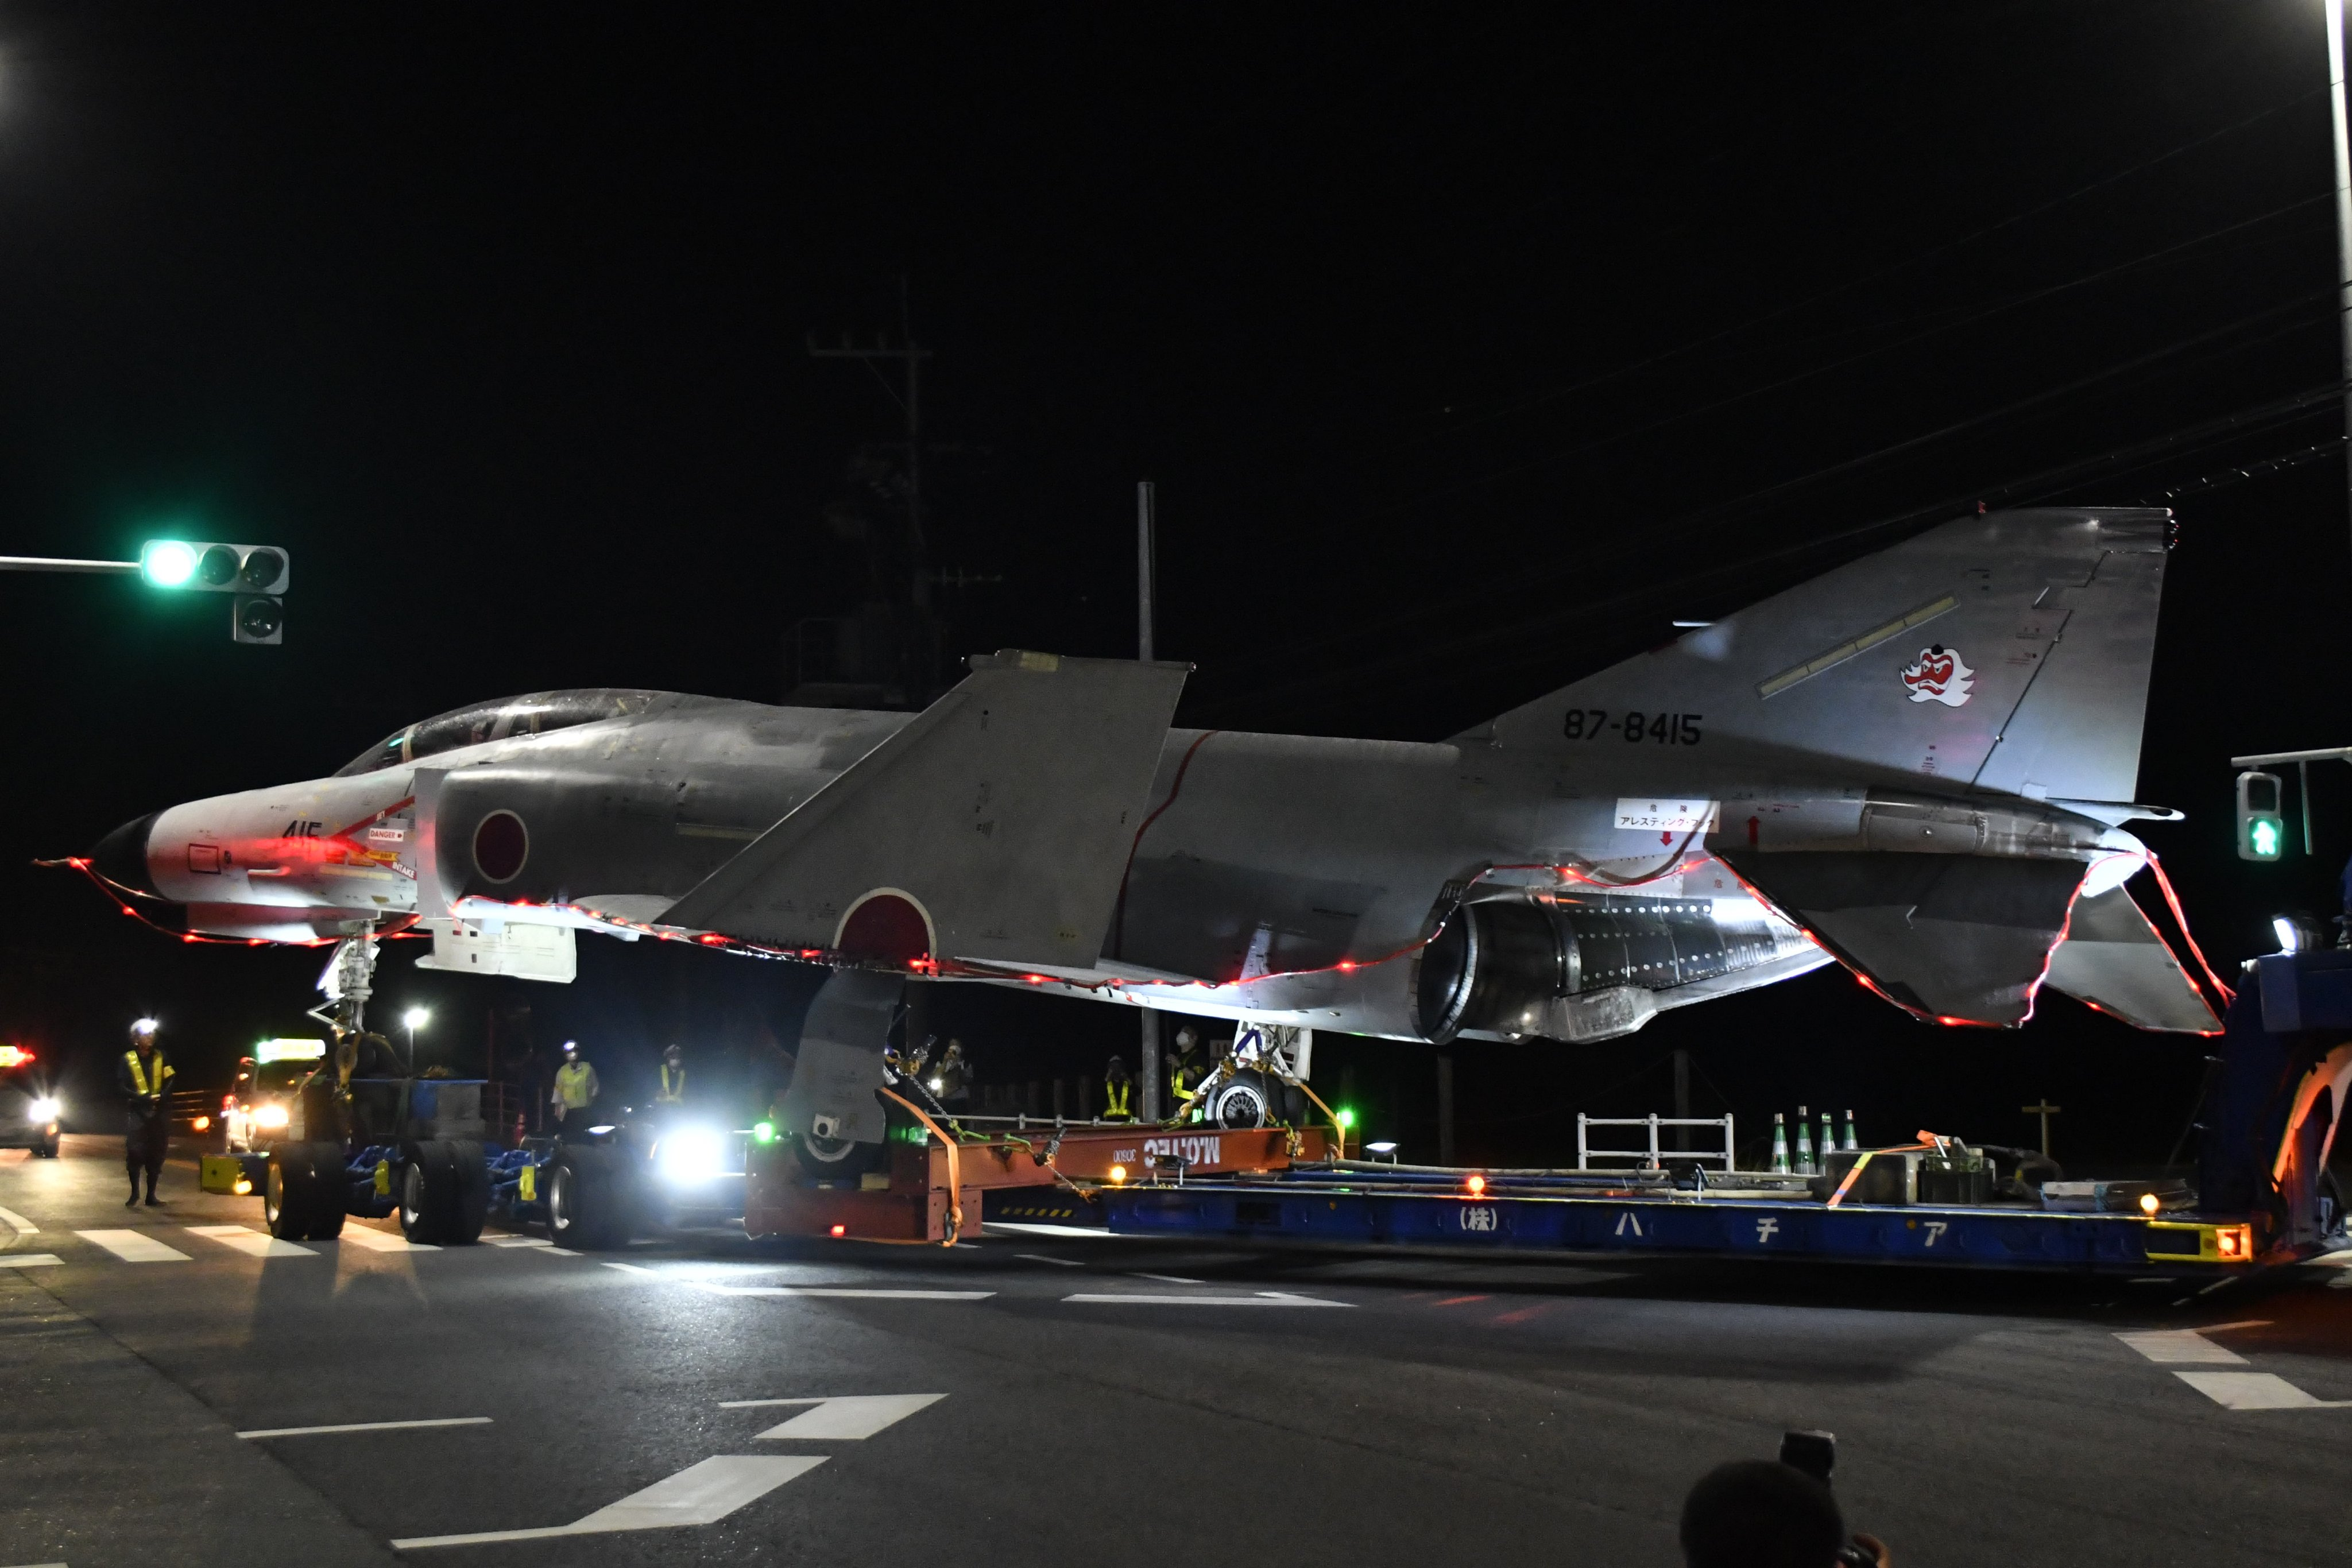F4: (31, 499, 2224, 1179)
